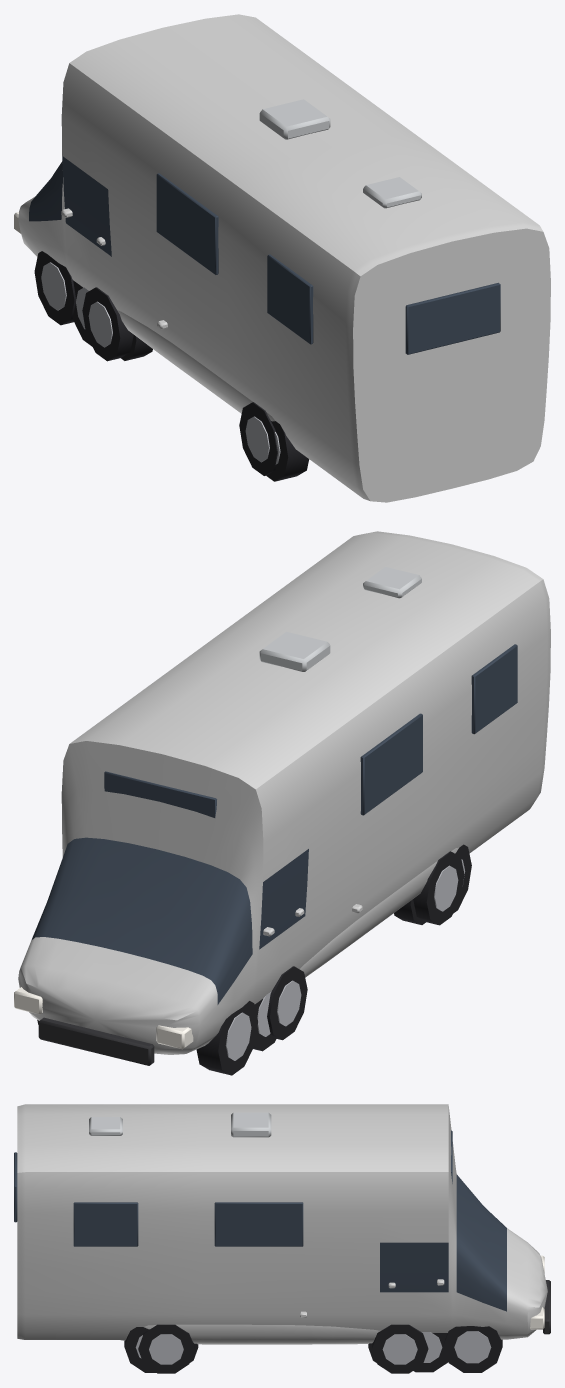
Rendered from fahrzeuge_leicht.glb.
The picture shows the model from 3 angles, top to bottom: view 1: azimuth 30°, elevation 25°; view 2: azimuth 150°, elevation 25°; view 3: azimuth 270°, elevation 25°; orthographic projection. The views are drawn at different scales.
Visible parts, largest first — view 1: caravan_lack, caravan_rest, sport_rest, sport_lack; view 2: caravan_lack, caravan_rest, sport_rest, sport_lack, caravan_licht, van_rest; view 3: caravan_lack, caravan_rest, sport_rest, sport_lack, van_rest.
Part boxes in pixels (x1=…): caravan_lack: x1=18, y1=14, x2=550, y2=502; caravan_rest: x1=29, y1=99, x2=500, y2=481; sport_rest: x1=82, y1=287, x2=277, y2=475; sport_lack: x1=117, y1=310, x2=274, y2=421; caravan_lack: x1=18, y1=531, x2=550, y2=1054; caravan_rest: x1=31, y1=567, x2=517, y2=1075; sport_rest: x1=267, y1=851, x2=464, y2=1040; sport_lack: x1=299, y1=847, x2=458, y2=977; caravan_licht: x1=14, y1=987, x2=193, y2=1049; van_rest: x1=253, y1=991, x2=276, y2=1051; caravan_lack: x1=17, y1=1104, x2=547, y2=1339; caravan_rest: x1=14, y1=1112, x2=550, y2=1372; sport_rest: x1=138, y1=1324, x2=428, y2=1373; sport_lack: x1=120, y1=1311, x2=380, y2=1344; van_rest: x1=413, y1=1332, x2=447, y2=1372.
Size of the model in its own units: 2.24 by 3 by 6.66.
